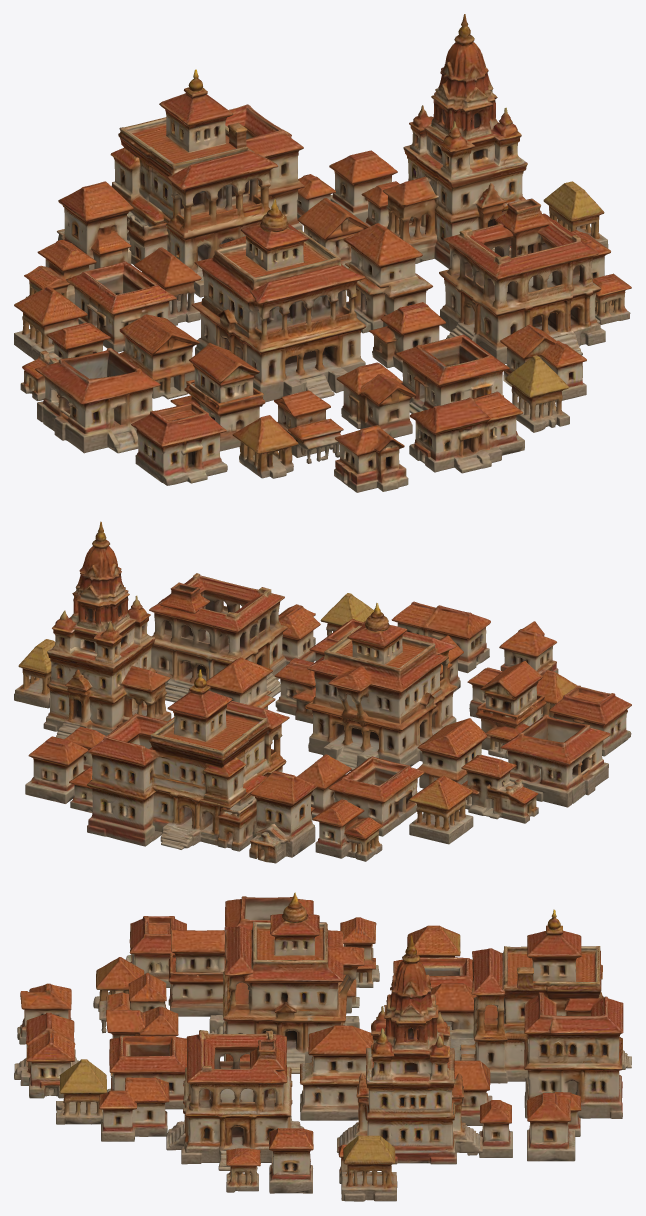
The model's file is Medieval Town (South Asian).fbx.
3 renders of one model, top to bottom at view 1: azimuth 30°, elevation 25°; view 2: azimuth 150°, elevation 25°; view 3: azimuth 270°, elevation 25°, orthographic. The views are drawn at different scales.
Parts seen in each view (by area): view 1: tripo_node_14e08fa3; view 2: tripo_node_14e08fa3; view 3: tripo_node_14e08fa3.
Part boxes in pixels (x1,y1,x2,y2): tripo_node_14e08fa3: [14, 14, 631, 492]; tripo_node_14e08fa3: [14, 521, 631, 863]; tripo_node_14e08fa3: [14, 892, 631, 1201].
Size of the model in its own units: 1 by 0.405 by 0.9811.
